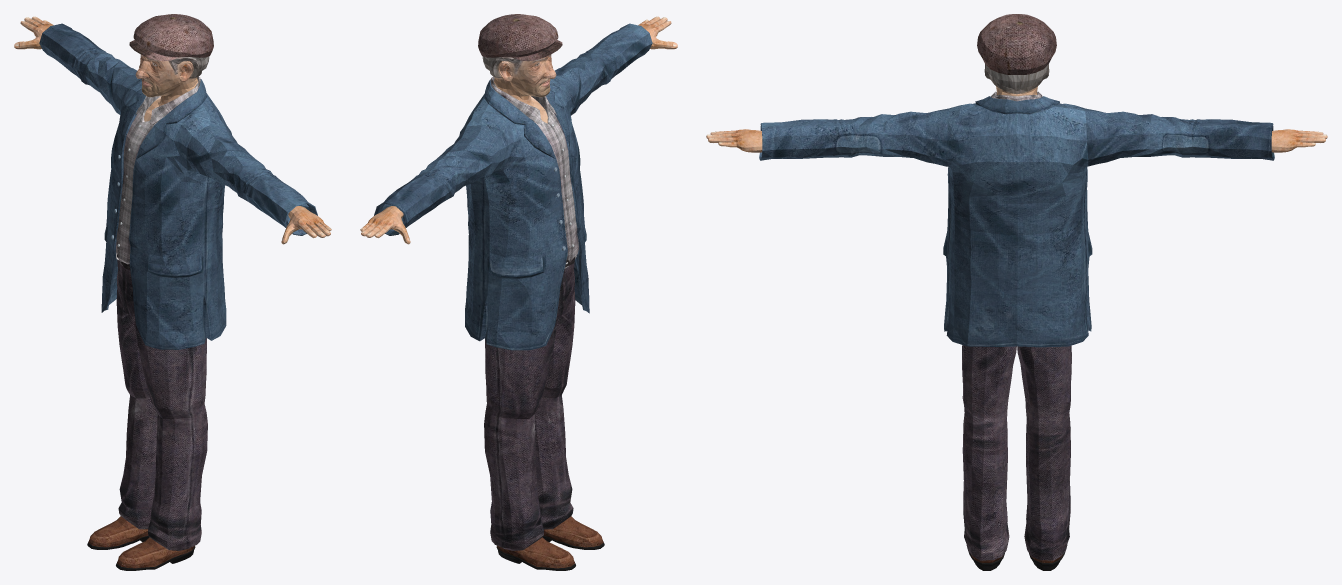
The model's file is oldman with rig.obj.
3 renders of one model, left to right at view 1: azimuth 30°, elevation 25°; view 2: azimuth 150°, elevation 25°; view 3: azimuth 270°, elevation 25°, orthographic. The views are drawn at different scales.
Visible parts, largest first — view 1: old_man_DQJ22R8H5PKZNIOUHSCDXCBAG; view 2: old_man_DQJ22R8H5PKZNIOUHSCDXCBAG; view 3: old_man_DQJ22R8H5PKZNIOUHSCDXCBAG.
Boxes of the visible parts, box(x1,y1,x2,y2) form: old_man_DQJ22R8H5PKZNIOUHSCDXCBAG: box(14, 14, 331, 570); old_man_DQJ22R8H5PKZNIOUHSCDXCBAG: box(360, 14, 677, 570); old_man_DQJ22R8H5PKZNIOUHSCDXCBAG: box(706, 14, 1327, 570).
Bounding box in the file's own units: 0.5395 × 2.43 × 2.5.
